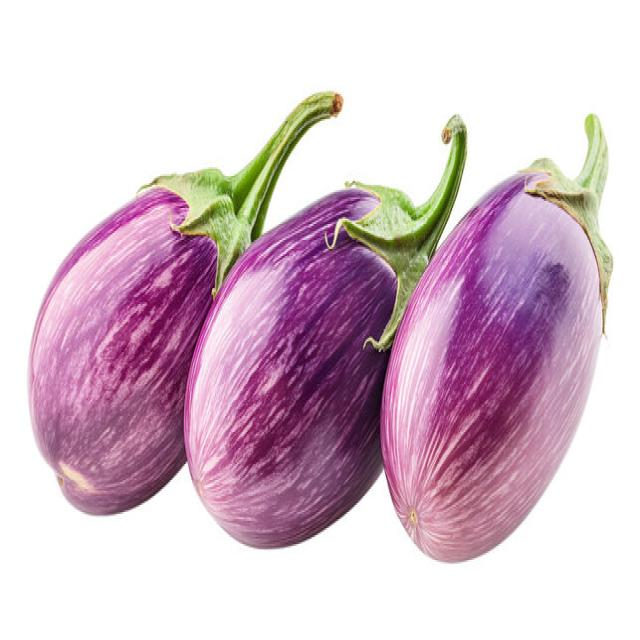Eggplant: (26, 87, 343, 517), (182, 110, 468, 550), (378, 110, 613, 564)
